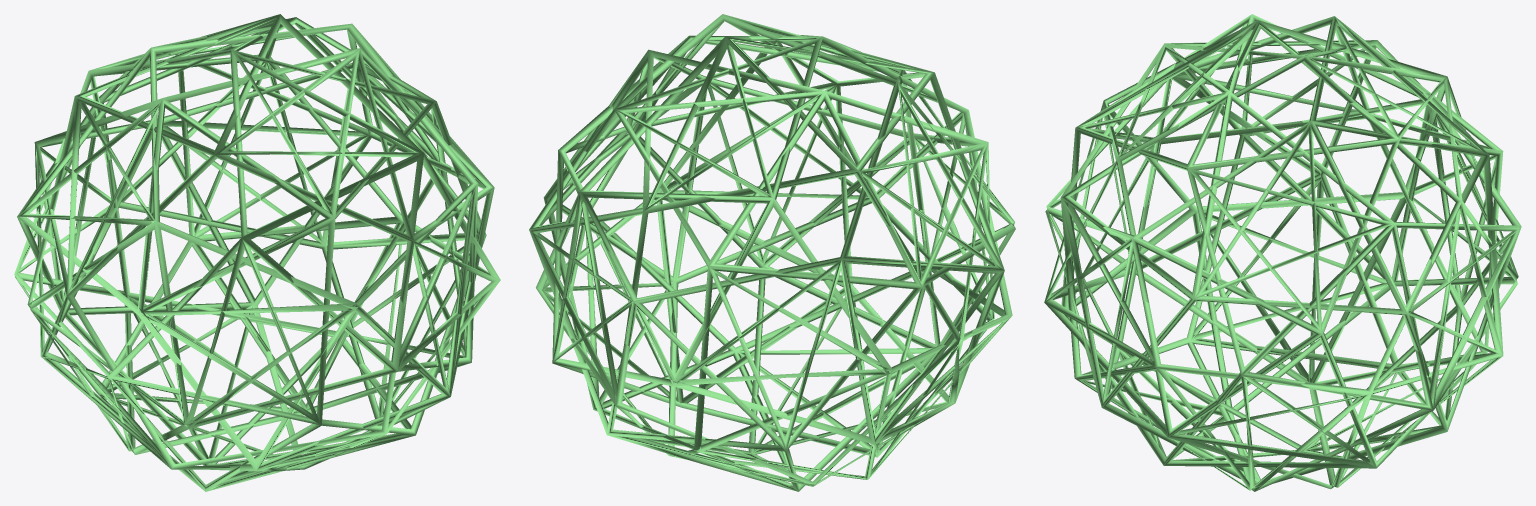
Rendered from SnubIcosidodecadodecahedron1.glb.
The picture shows the model from 3 angles, left to right: view 1: azimuth 30°, elevation 25°; view 2: azimuth 150°, elevation 25°; view 3: azimuth 270°, elevation 25°; orthographic projection.
Visible parts, largest first — view 1: SnubIcosidodecadodecahedron; view 2: SnubIcosidodecadodecahedron; view 3: SnubIcosidodecadodecahedron.
Boxes of the visible parts, x1,y1,x2,y2 form: SnubIcosidodecadodecahedron: (14,14,500,491); SnubIcosidodecadodecahedron: (529,14,1015,491); SnubIcosidodecadodecahedron: (1044,14,1521,491).
Size of the model in its own units: 2.25 by 2.24 by 2.24.
